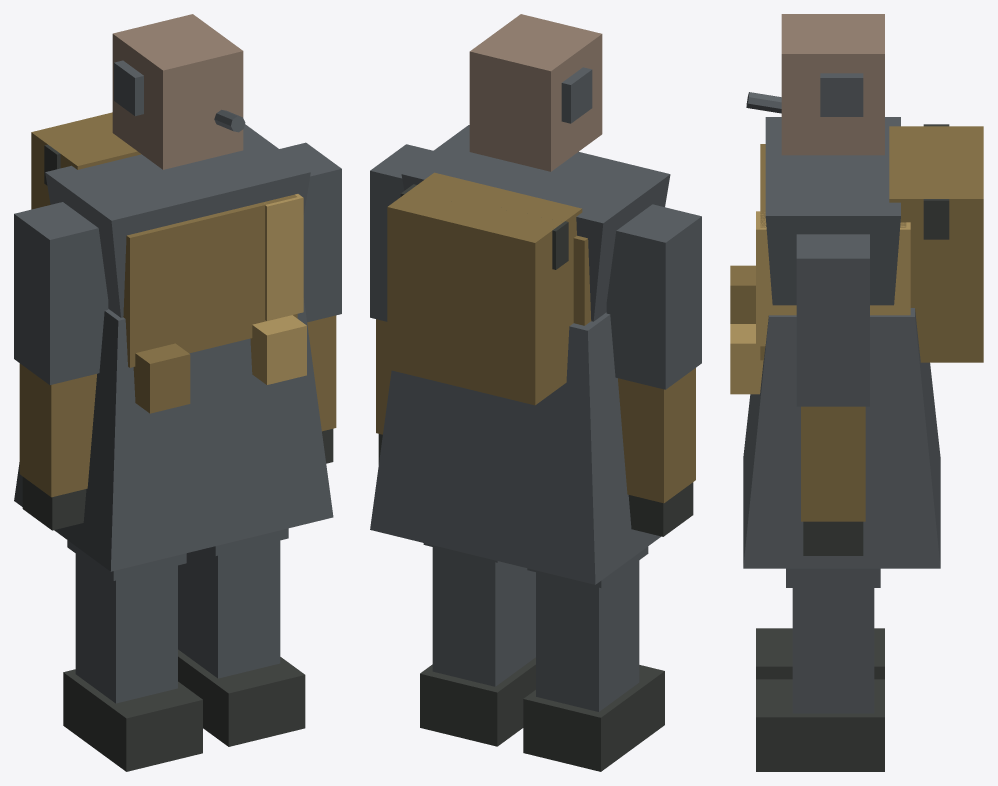
Rendered from soldier_commander.glb.
The picture shows the model from 3 angles, left to right: view 1: azimuth 30°, elevation 25°; view 2: azimuth 150°, elevation 25°; view 3: azimuth 270°, elevation 25°; orthographic projection.
Visible parts, largest first — view 1: coat, carrier, chest, skull, upperarmR, shinR, shinL, bootR, forearmR, bootL, upperarmL, sash (+8 smaller); view 2: coat, pack, skull, upperarmR, chest, shinR, shinL, bootR, forearmR, bootL, upperarmL, gloveR (+5 smaller); view 3: coat, pack, chest, skull, upperarmL, shinL, bootL, forearmL, sash, bootR, gloveL, pouch_l (+6 smaller).
Part boxes in pixels (box(x1,y1,x2,y2)): coat: box(14, 298, 333, 571); carrier: box(123, 194, 297, 367); chest: box(45, 124, 310, 317); skull: box(112, 14, 243, 169); upperarmR: box(14, 202, 108, 384); shinR: box(75, 554, 177, 703); shinL: box(178, 540, 280, 678); bootR: box(63, 669, 202, 771); forearmR: box(19, 363, 96, 497); bootL: box(178, 649, 305, 746); upperarmL: box(279, 142, 341, 322); sash: box(264, 194, 303, 320); coat: box(370, 312, 660, 584); pack: box(387, 172, 582, 405); skull: box(469, 14, 602, 171); upperarmR: box(606, 204, 701, 389); chest: box(401, 125, 670, 321); shinR: box(536, 560, 639, 711); shinL: box(432, 547, 535, 686); bootR: box(523, 665, 664, 771); forearmR: box(618, 368, 695, 503); bootL: box(420, 657, 535, 746); upperarmL: box(370, 144, 432, 321); gloveR: box(628, 482, 693, 536); coat: box(743, 308, 940, 568); pack: box(889, 126, 983, 362); chest: box(765, 117, 900, 305); skull: box(781, 14, 884, 155); upperarmL: box(796, 234, 869, 406); shinL: box(792, 588, 874, 713); bootL: box(756, 679, 884, 771); forearmL: box(801, 406, 865, 521); sash: box(756, 211, 910, 346); bootR: box(756, 628, 884, 679); gloveL: box(803, 521, 863, 555); pouch_l: box(730, 324, 763, 394).
Bounding box in the file's own units: 0.8 × 1.78 × 0.59.
